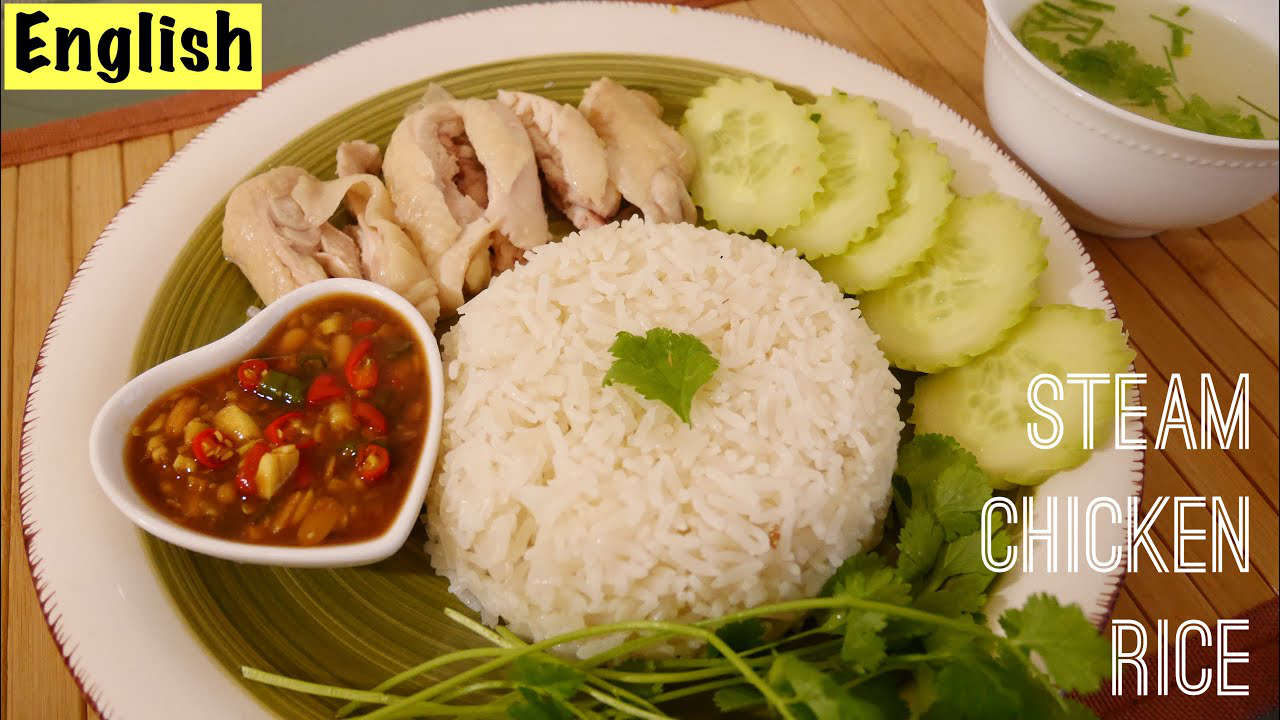Steamed Chicken Rice: (232, 89, 909, 649)
